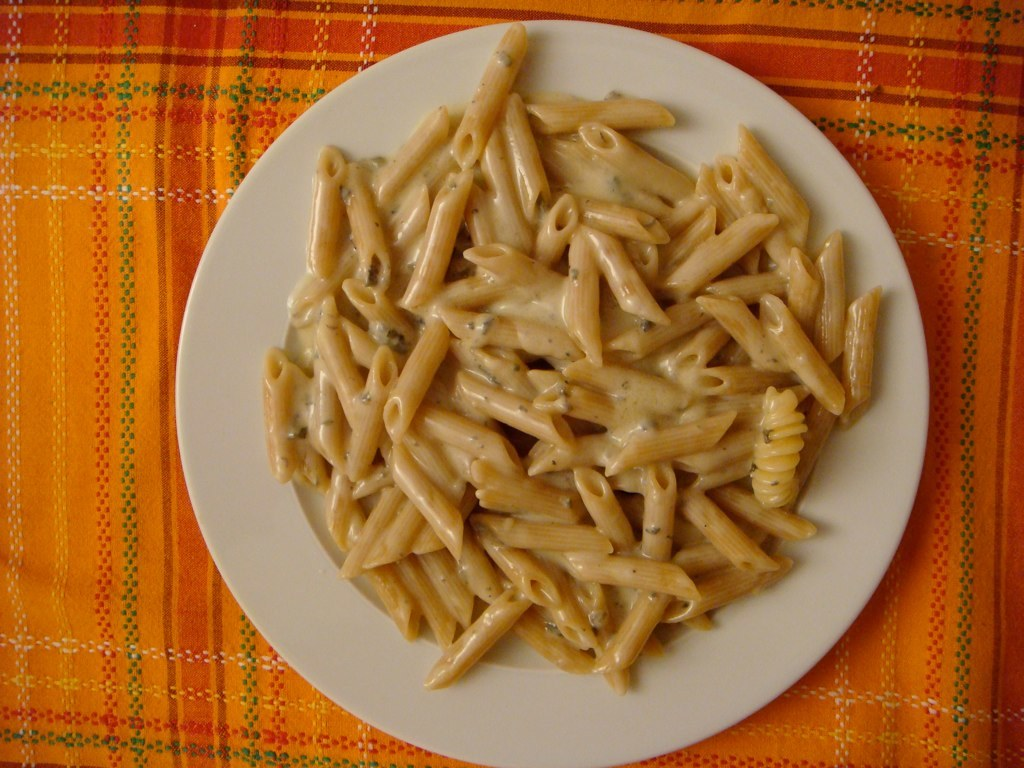pasta: (261, 18, 879, 687)
